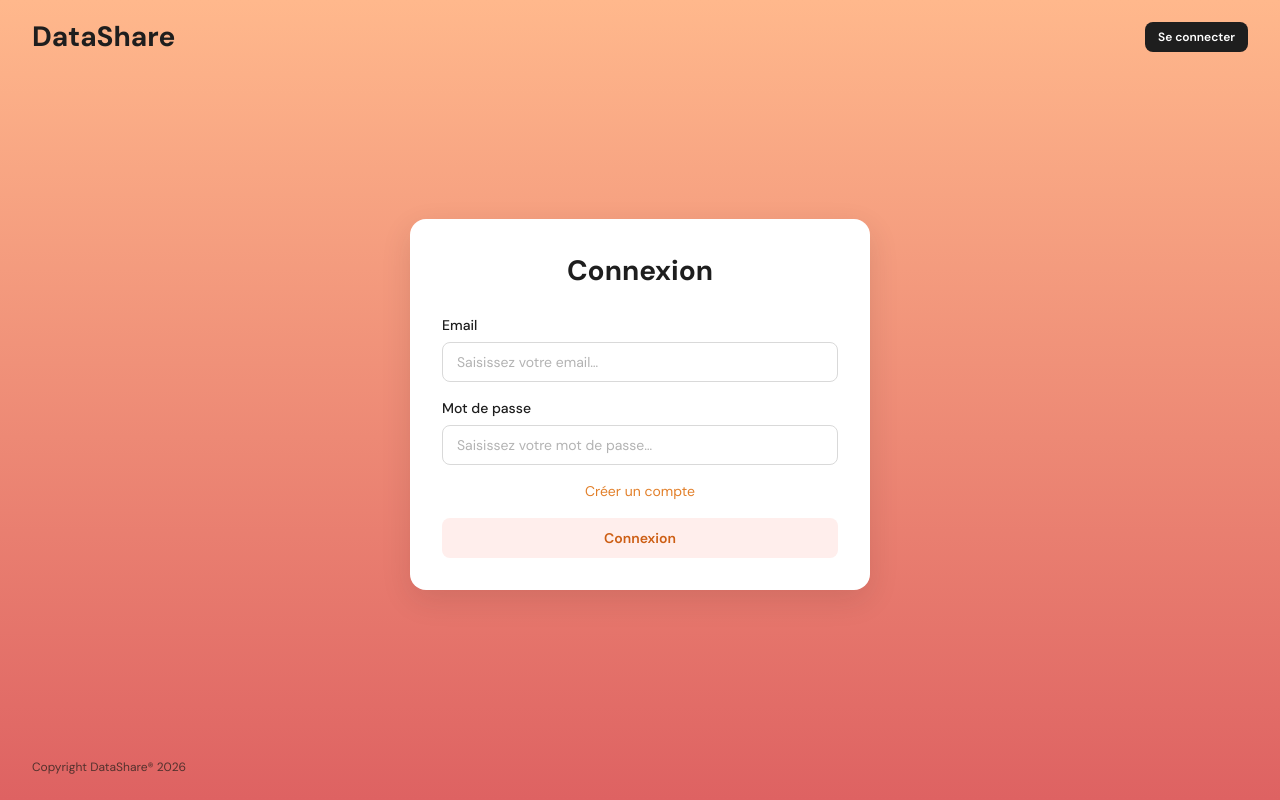
Test: LoginPage › affiche les erreurs de validation à la soumission à vide (US04)
Click the button "Connexion" at point(640, 538), box [442,518,838,558]
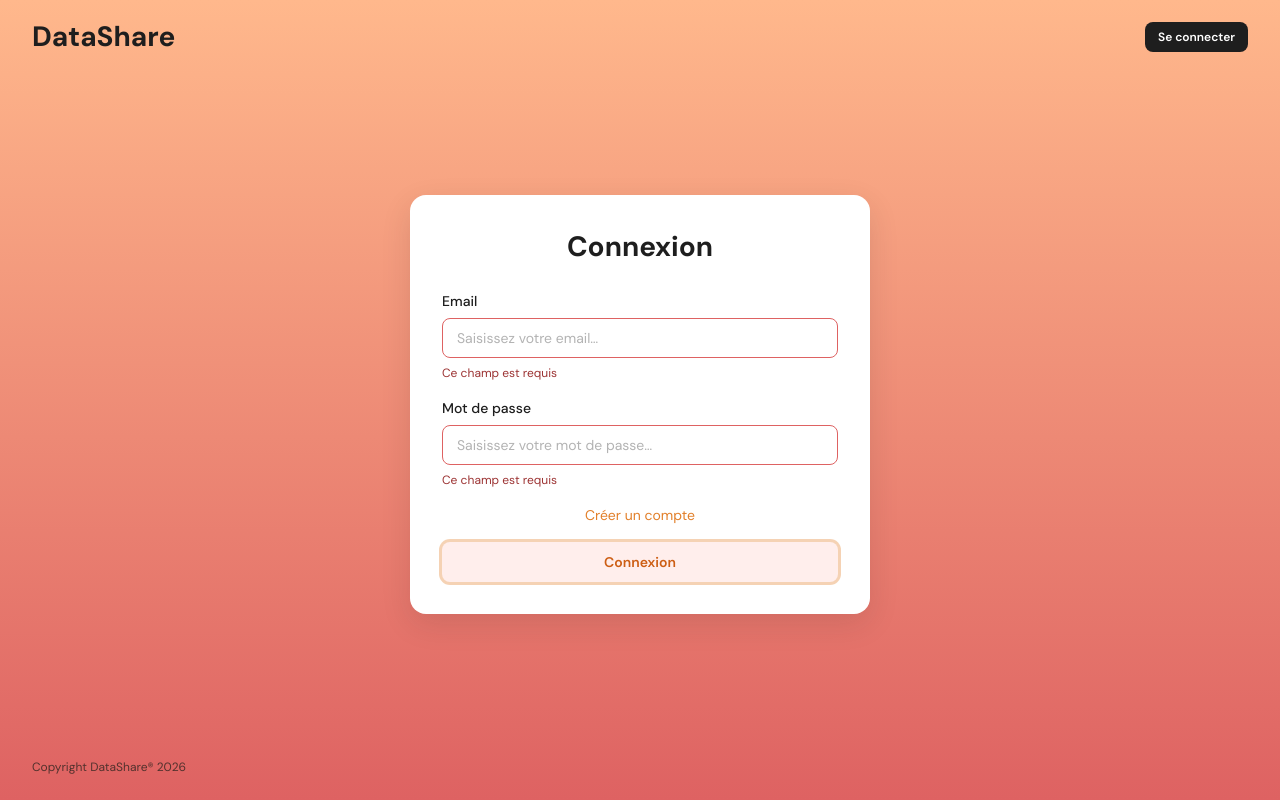
Now the text "Ce champ est requis" is shown 2 times, box [442,364,557,380]; [442,472,557,488]
